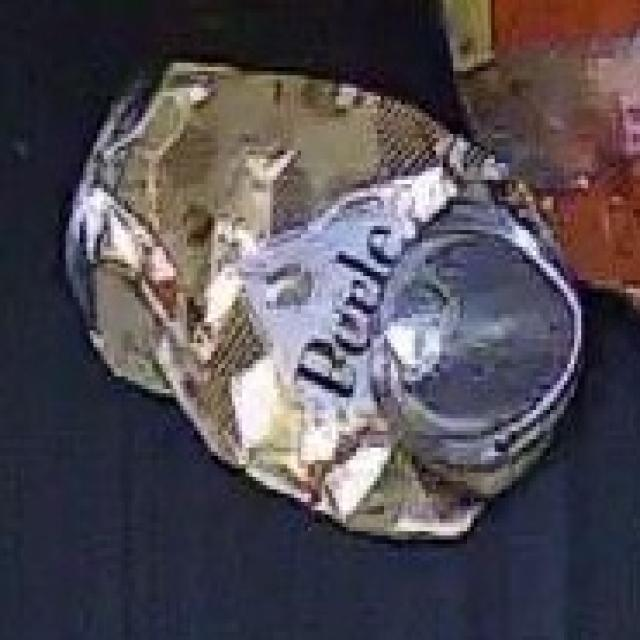can: (67, 62, 589, 542)
